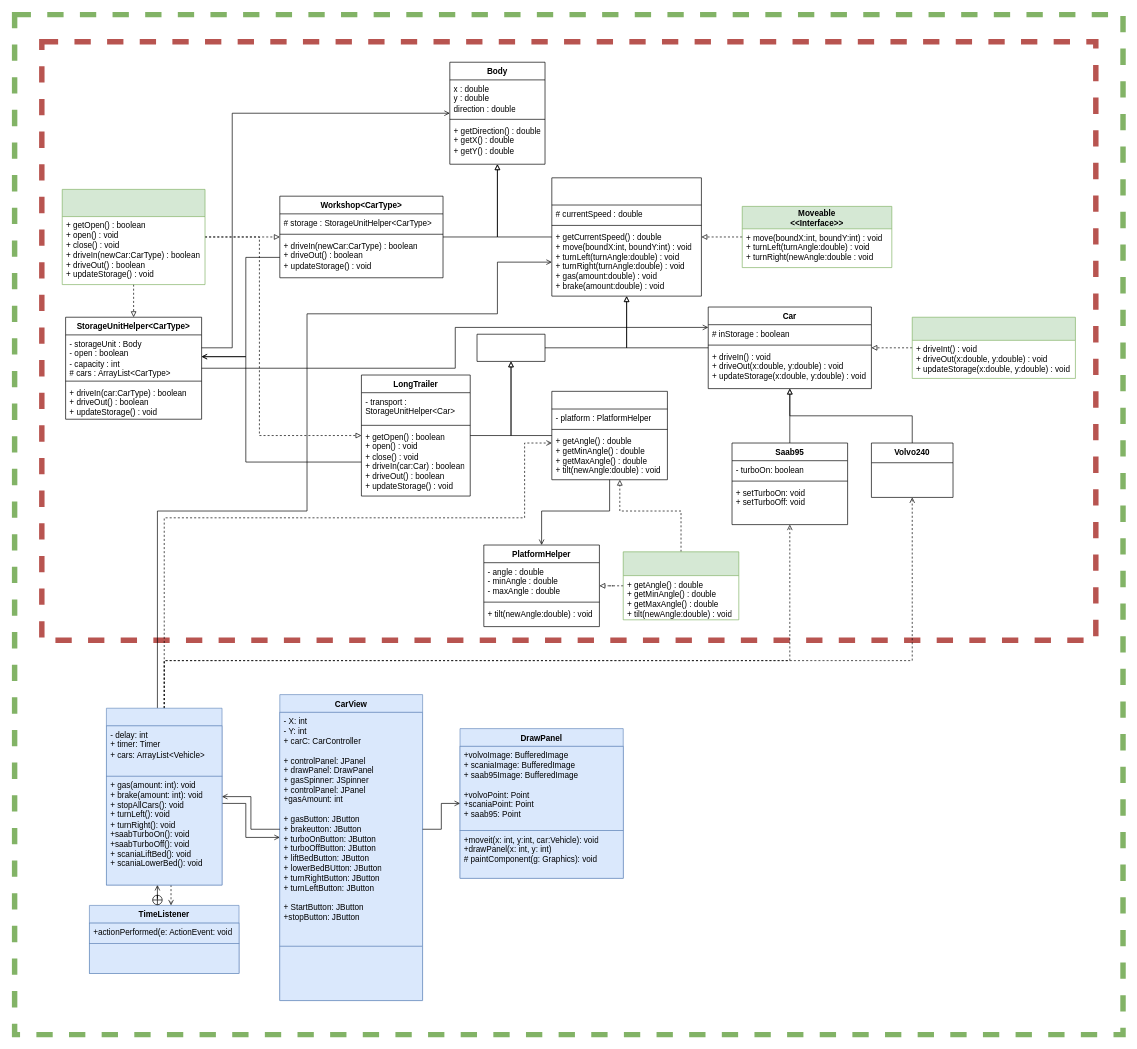
Some shapes in this 1137 by 1049 pixel diagram are drawn without their labels. The shapes that lost their labels are listed below. From the top down, each one's box as (x1, y1, x2, y2) in pixels, then its label:
(62, 189, 205, 285): StorageUnit<CarType> <<Interface>>
(551, 177, 701, 296): Vehicle <<Abstract>>
(476, 334, 545, 361): Truck <<Abstract>>
(912, 317, 1075, 378): Storeable <<Interface>>
(551, 391, 667, 480): Scania
(623, 551, 739, 620): Platform <<Interface>>
(106, 708, 222, 885): CarController
(89, 943, 239, 973): x: int y: int
(279, 946, 423, 1001): +getX(): int +getY(): int -initComponents(title: String): void{
